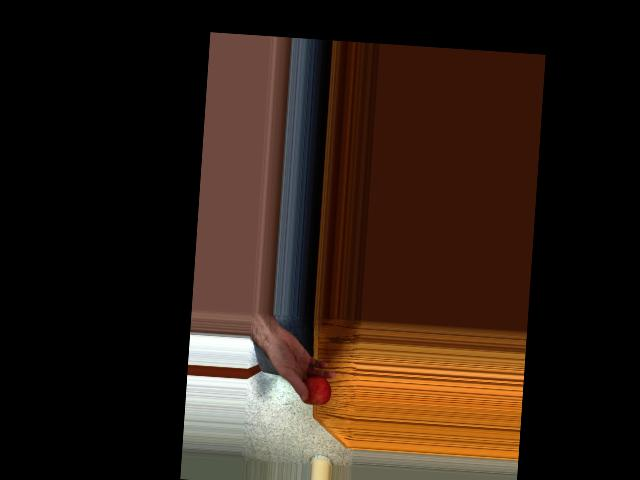apple: (297, 373, 331, 406)
